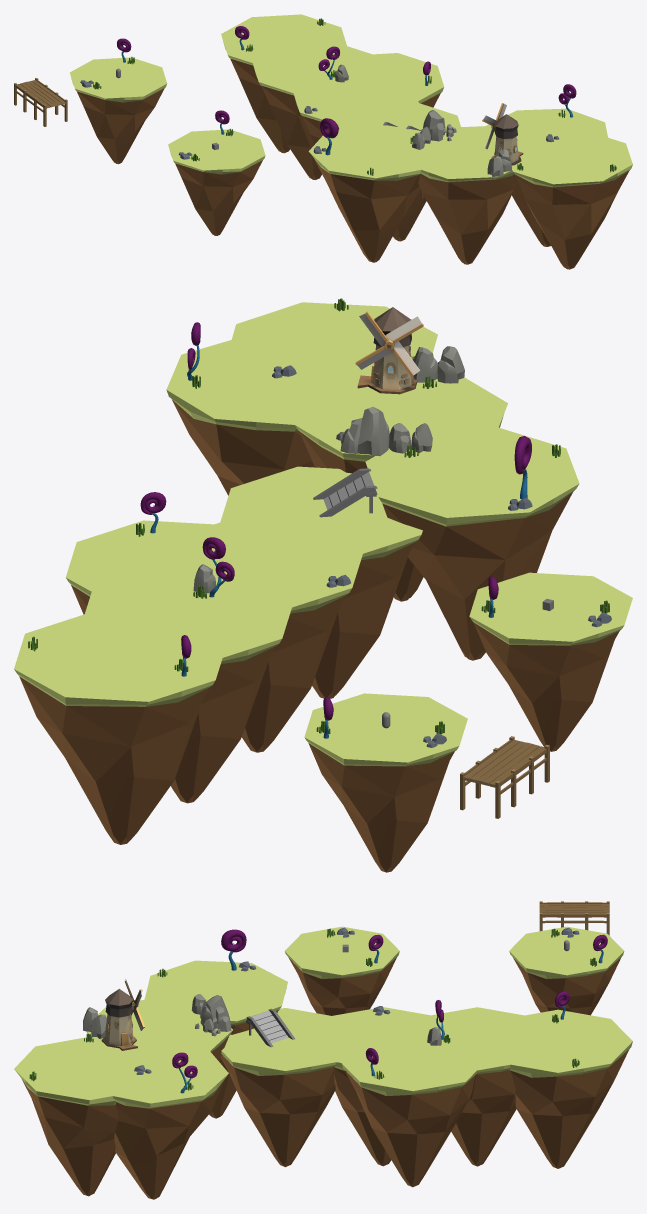
Rendered from floating_islands.glb.
3 renders of one model, top to bottom at view 1: azimuth 30°, elevation 25°; view 2: azimuth 150°, elevation 25°; view 3: azimuth 270°, elevation 25°, orthographic. The views are drawn at different scales.
Visible parts, largest first — view 1: spawnIsland#O-B# (×2), spawnIsland#O-C# (6), spawnIsland#O-C# (4), spawnIsland#O-C# (5), spawnIsland#O-B# (1), spawnIsland#O-B# (2), spawnIsland#O-B# (5), spawnIsland#O-B# (4), spawnIsland#O-C# (7), spawnIsland#O-B# (3), Dock_FirstAge#O-B#, Windmill#O-C# (+2 smaller); view 2: spawnIsland#O-B# (×2), spawnIsland#O-B# (1), spawnIsland#O-C# (4), spawnIsland#O-B# (2), spawnIsland#O-B# (3), spawnIsland#O-C# (7), spawnIsland#O-B# (5), spawnIsland#O-C# (6), spawnIsland#O-C# (5), spawnIsland#O-B# (4), Windmill#O-C#, Dock_FirstAge#O-B# (+4 smaller); view 3: spawnIsland#O-B# (×2), spawnIsland#O-B# (4), spawnIsland#O-B# (1), spawnIsland#O-C# (6), spawnIsland#O-B# (3), spawnIsland#O-C# (7), spawnIsland#O-B# (2), spawnIsland#O-C# (4), spawnIsland#O-B# (5), spawnIsland#O-C# (5), Windmill#O-C#, Dock_FirstAge#O-B# (+4 smaller).
Part boxes in pixels (x1,y1,x2,y2): spawnIsland#O-B# (×2): (70, 57, 265, 235); spawnIsland#O-C# (6): (511, 130, 632, 269); spawnIsland#O-C# (4): (308, 123, 439, 262); spawnIsland#O-C# (5): (404, 126, 525, 264); spawnIsland#O-B# (1): (221, 14, 347, 153); spawnIsland#O-B# (2): (253, 41, 378, 179); spawnIsland#O-B# (5): (293, 71, 419, 144); spawnIsland#O-B# (4): (318, 53, 443, 107); spawnIsland#O-C# (7): (484, 108, 607, 246); spawnIsland#O-B# (3): (338, 103, 460, 241); Dock_FirstAge#O-B#: (14, 78, 67, 126); Windmill#O-C#: (482, 103, 523, 165); spawnIsland#O-B# (×2): (304, 572, 632, 872); spawnIsland#O-B# (1): (14, 612, 226, 844); spawnIsland#O-C# (4): (365, 427, 579, 660); spawnIsland#O-B# (2): (81, 571, 293, 803); spawnIsland#O-B# (3): (220, 466, 422, 698); spawnIsland#O-C# (7): (166, 336, 372, 495); spawnIsland#O-B# (5): (175, 520, 362, 752); spawnIsland#O-C# (6): (226, 302, 437, 391); spawnIsland#O-C# (5): (295, 377, 507, 601); spawnIsland#O-B# (4): (65, 520, 268, 614); Windmill#O-C#: (355, 307, 423, 394); Dock_FirstAge#O-B#: (460, 736, 549, 818); spawnIsland#O-B# (×2): (285, 926, 624, 1015); spawnIsland#O-B# (4): (339, 1028, 487, 1187); spawnIsland#O-B# (1): (483, 1009, 632, 1168); spawnIsland#O-C# (6): (14, 1037, 163, 1196); spawnIsland#O-B# (3): (220, 1008, 359, 1167); spawnIsland#O-C# (7): (113, 1040, 228, 1199); spawnIsland#O-B# (2): (405, 1007, 541, 1166); spawnIsland#O-C# (4): (144, 960, 287, 1118); spawnIsland#O-B# (5): (309, 1007, 457, 1166); spawnIsland#O-C# (5): (86, 999, 232, 1060); Windmill#O-C#: (101, 978, 144, 1050); Dock_FirstAge#O-B#: (539, 901, 609, 935).
Bounding box in the file's own units: 89.22 × 38.27 × 107.
13 materials, 5 textured.
